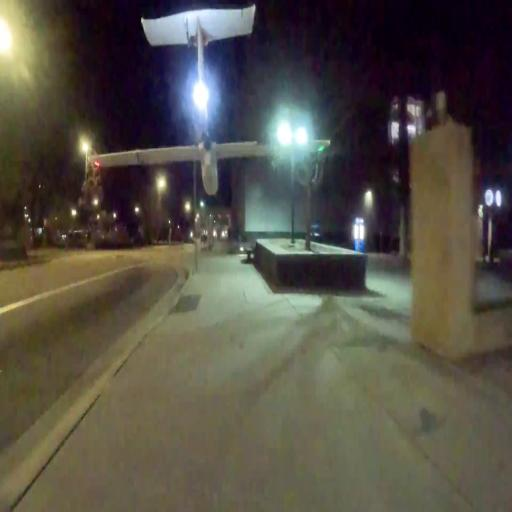uav: (85, 0, 337, 200)
